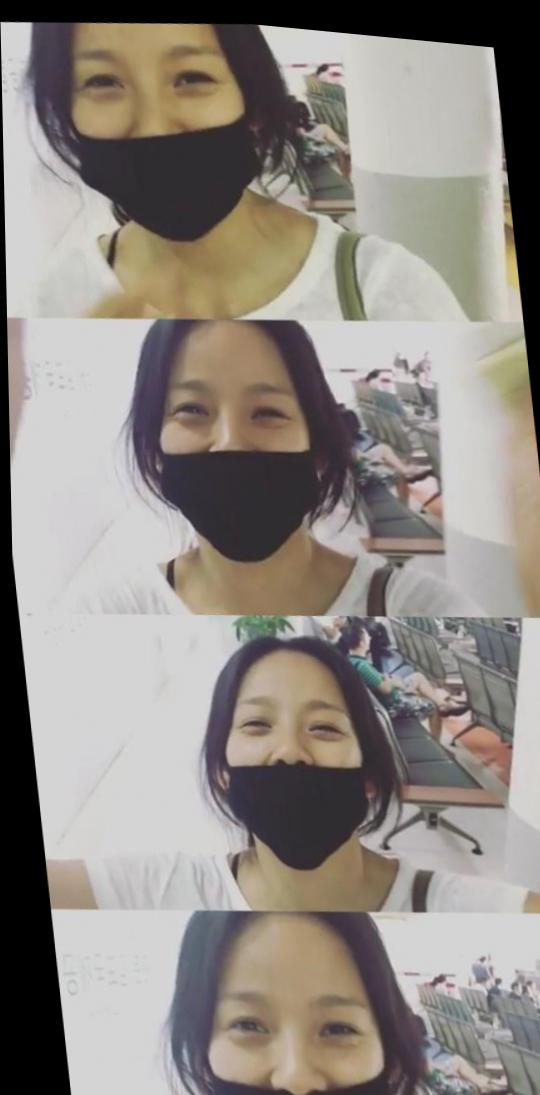WRONG: (55, 16, 259, 262), (147, 351, 340, 576), (207, 663, 377, 878), (186, 951, 400, 1095)
